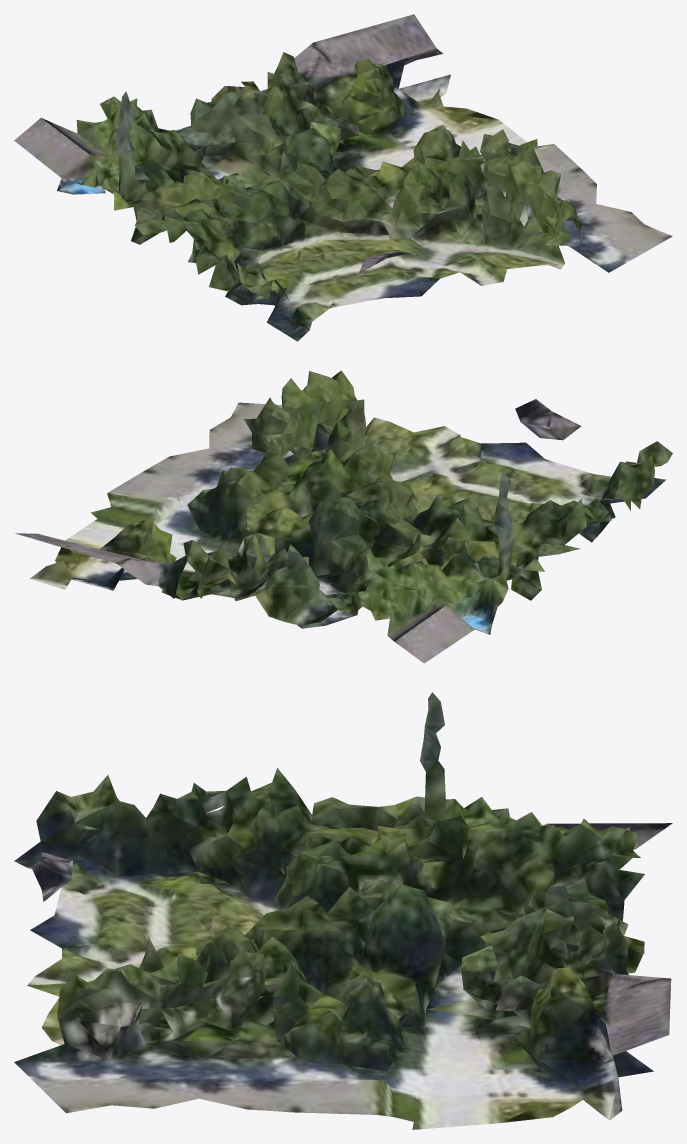
Rendered from Tile_+002_+005_L16_0.glb.
3 renders of one model, top to bottom at view 1: azimuth 30°, elevation 25°; view 2: azimuth 150°, elevation 25°; view 3: azimuth 270°, elevation 25°, orthographic. The views are drawn at different scales.
Parts seen in each view (by area): view 1: rtc; view 2: rtc; view 3: rtc.
Boxes of the visible parts, bbox=[...] form: rtc: bbox=[14, 14, 672, 341]; rtc: bbox=[15, 370, 672, 663]; rtc: bbox=[14, 692, 672, 1129].
Bounding box in the file's own units: 58.29 × 19.13 × 60.16.
1 material, 1 textured.
